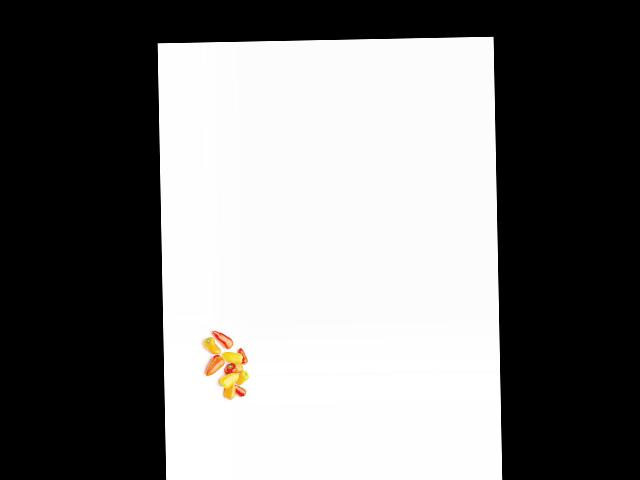bell_pepper: (239, 345, 248, 365)
